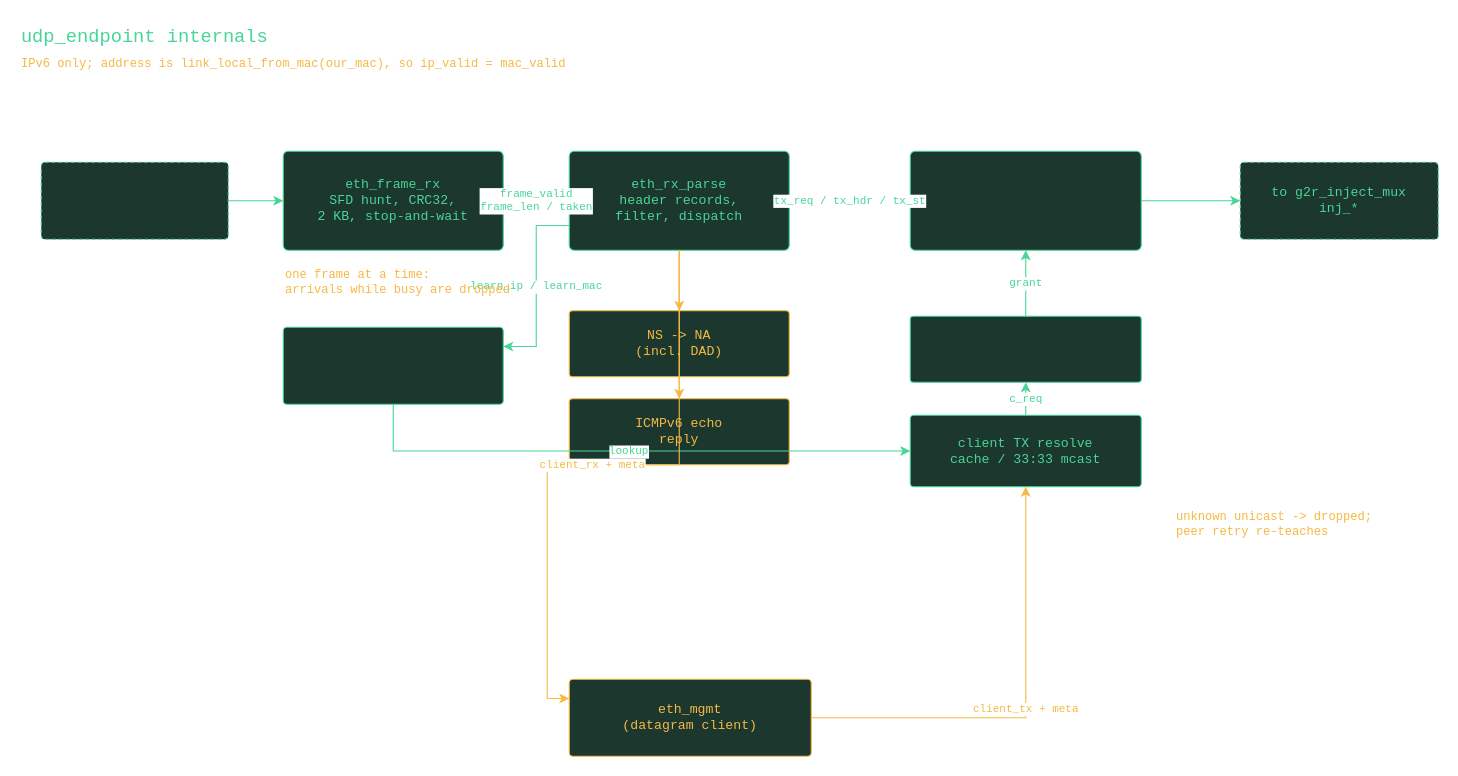
This 1458x776 diagram has some shape labels left out. The shapes that lost their labels are listed below. From the top down, each one's centre as x and y in pixels, then its label:
At (134,200): "byte_pop tap tap_data/er/dv/pop".
At (1025,200): "eth_frame_tx headers + UDP/ICMPv6 checksum, 512 B".
At (392,365): "neighbour cache 4 entries, learn-only".
At (1025,348): "arbiter parser > client".
